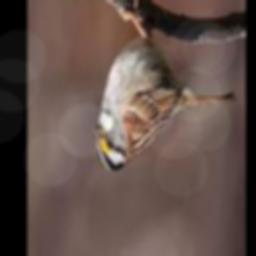Sparrow: (93, 0, 235, 172)
